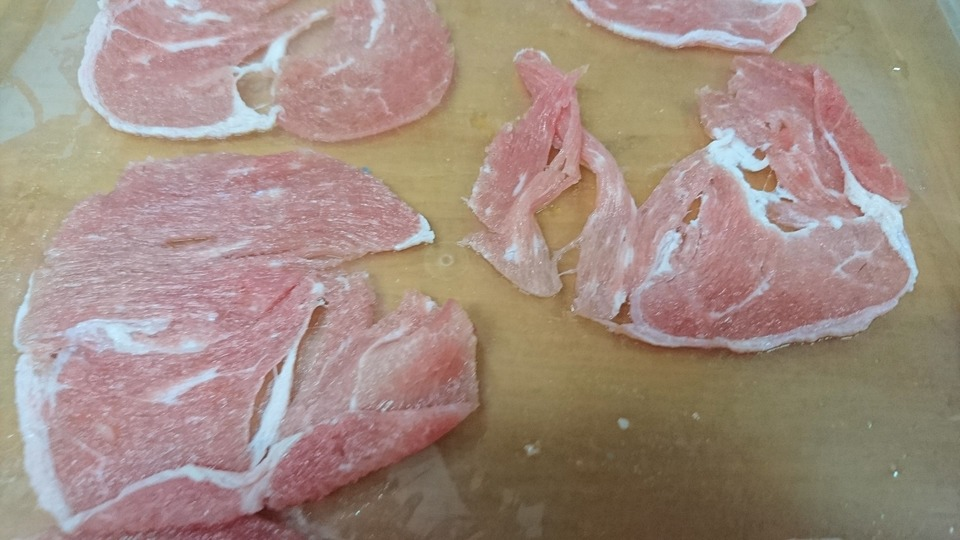restructured meat: (13, 166, 480, 517), (489, 53, 924, 373), (80, 12, 461, 146), (566, 1, 825, 53)
